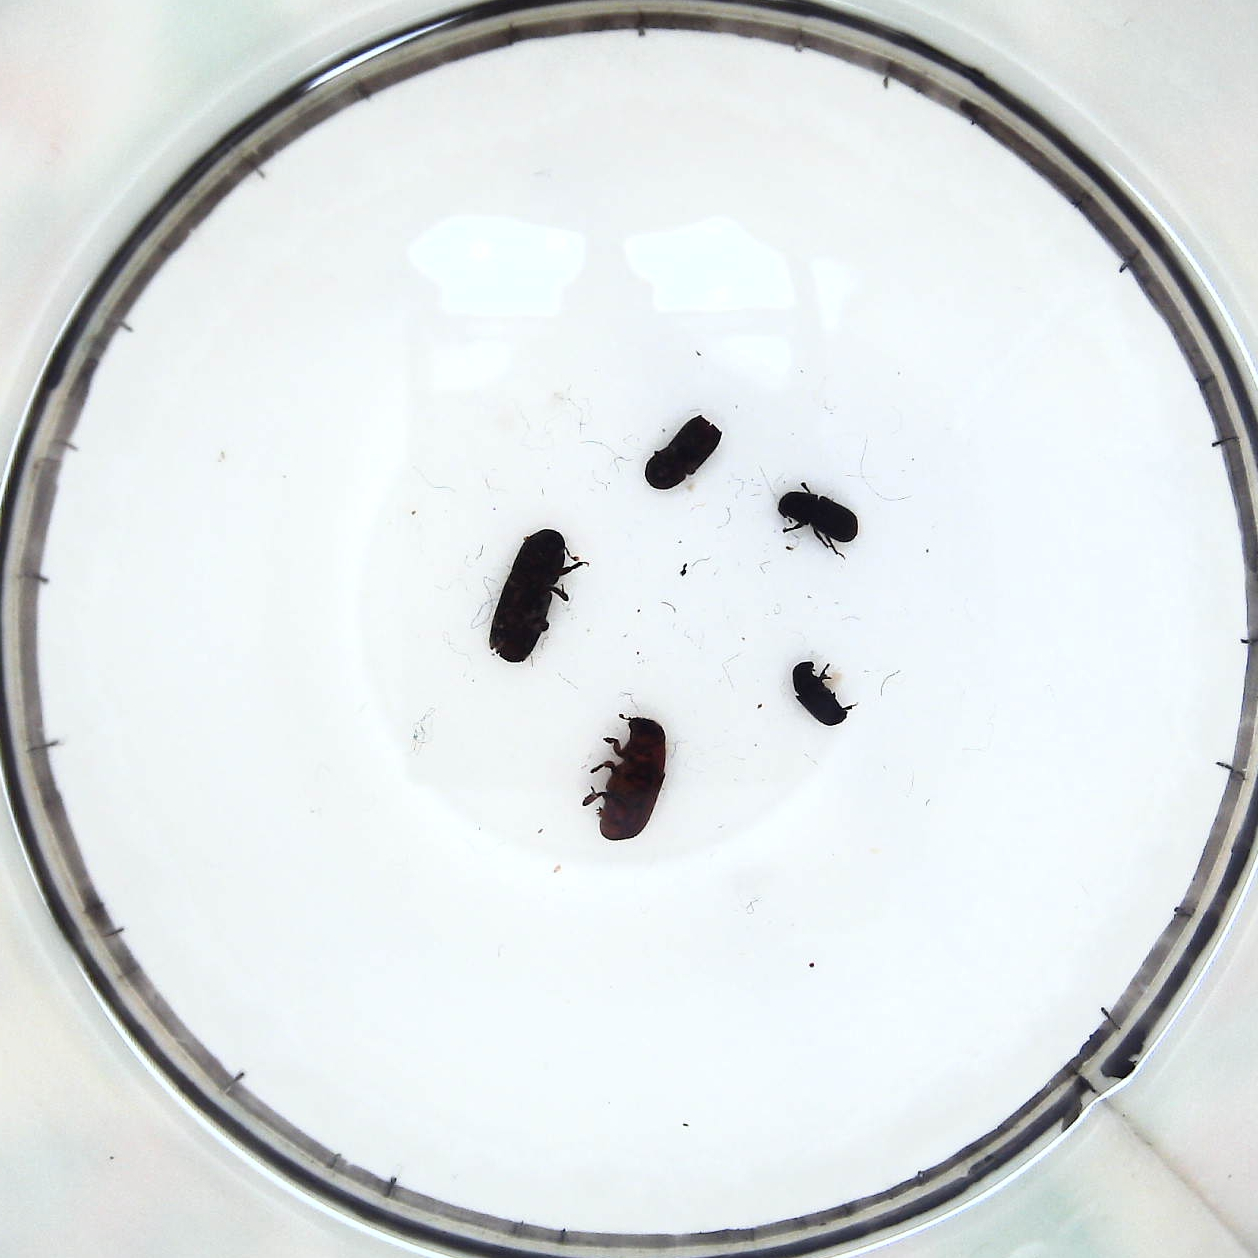Boerner: (494, 529, 571, 666)
Leconte: (594, 714, 664, 844)
Linnaeus: (649, 417, 720, 487)
armandi: (782, 484, 858, 551)
coleoptera: (794, 654, 849, 732)
